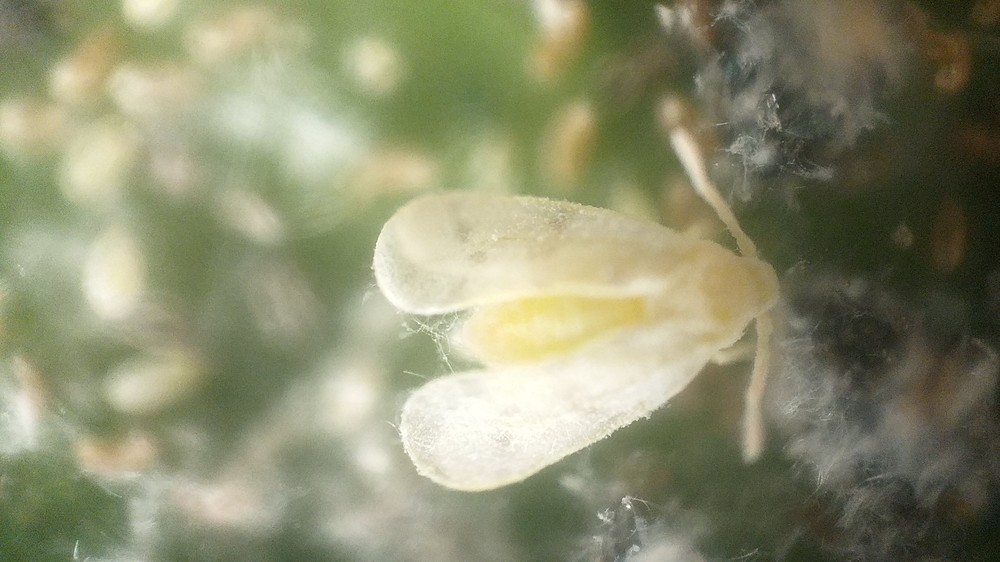Mosca Blanca: (364, 126, 780, 500)
